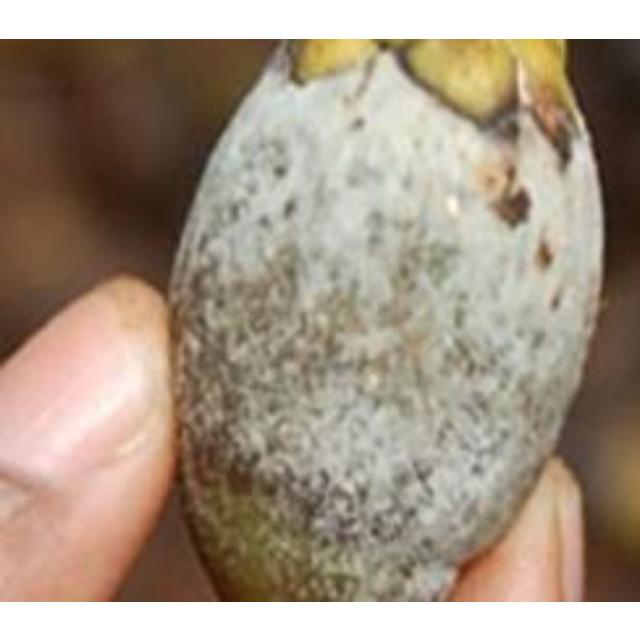damaged: (168, 38, 606, 599)
